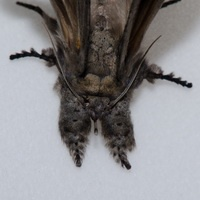insect: (10, 0, 191, 168)
